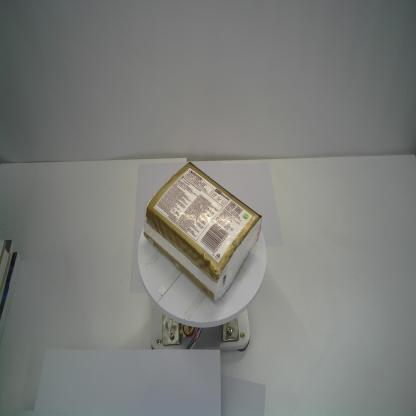Tissue: (142, 160, 263, 303)
